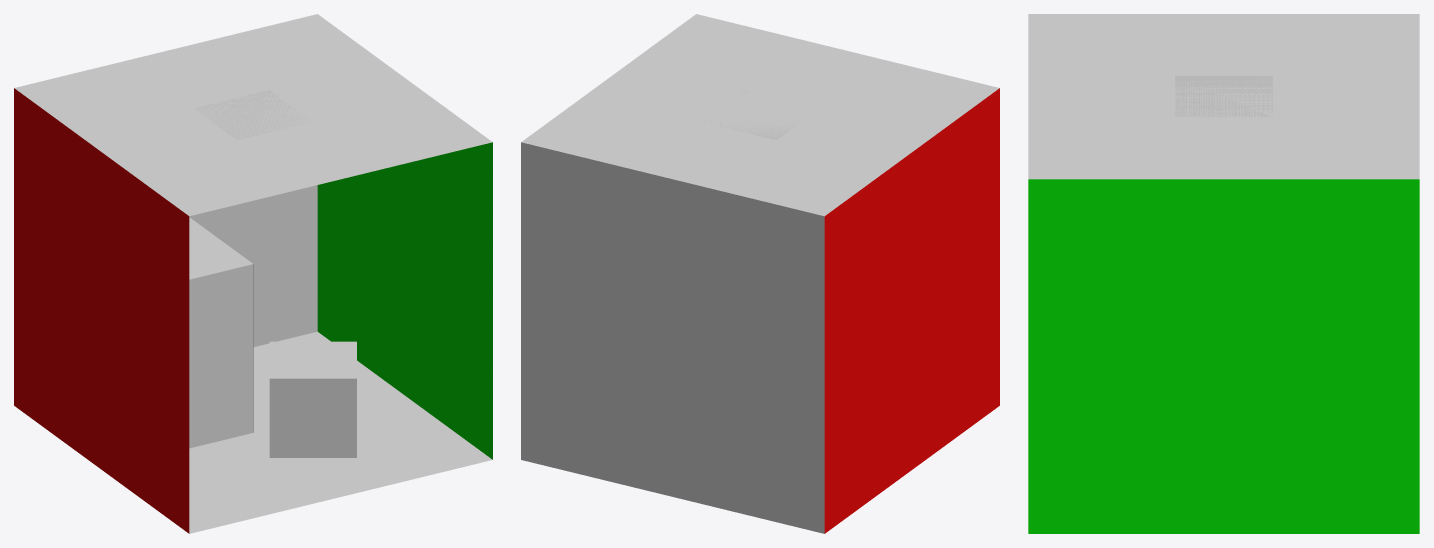
File: my_Cornell_Box_cubes.obj
The picture shows the model from 3 angles, left to right: view 1: azimuth 30°, elevation 25°; view 2: azimuth 150°, elevation 25°; view 3: azimuth 270°, elevation 25°; orthographic projection. The views are drawn at different scales.
Visible parts, largest first — view 1: Plane.004, Plane, Plane.003, Plane.001, Cube.001, Plane.002, Cube, Plane.005; view 2: Plane.002, Plane.004, Plane, Plane.005; view 3: Plane.003, Plane, Plane.005.
Part boxes in pixels (x1,y1,x2,y2): Plane.004: [14, 88, 189, 533]; Plane: [14, 14, 492, 216]; Plane.003: [317, 142, 492, 459]; Plane.001: [189, 331, 492, 533]; Cube.001: [189, 217, 253, 448]; Plane.002: [189, 185, 317, 346]; Cube: [269, 341, 356, 457]; Plane.005: [194, 90, 310, 139]; Plane.002: [521, 142, 824, 533]; Plane.004: [824, 88, 999, 533]; Plane: [521, 14, 999, 216]; Plane.005: [701, 90, 801, 139]; Plane.003: [1028, 179, 1419, 533]; Plane: [1028, 14, 1419, 179]; Plane.005: [1175, 76, 1272, 117].
Bounding box in the file's own units: 4 × 4.12 × 4.
